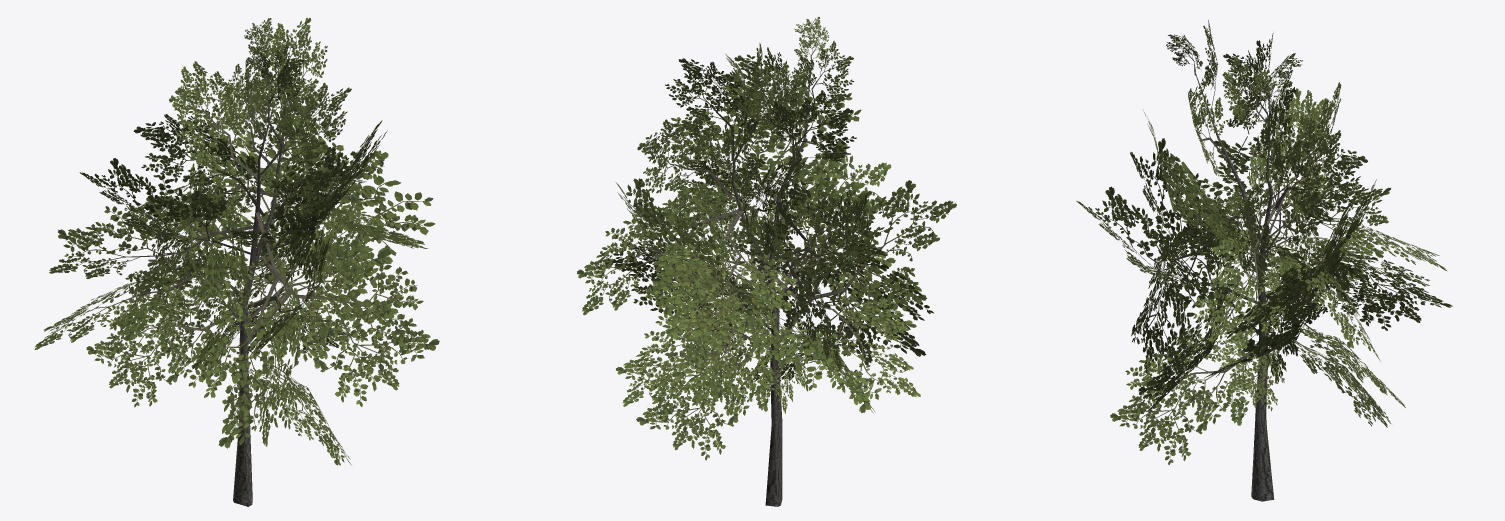
The model's file is tree.glb.
The picture shows the model from 3 angles, left to right: view 1: azimuth 30°, elevation 25°; view 2: azimuth 150°, elevation 25°; view 3: azimuth 270°, elevation 25°; orthographic projection. The views are drawn at different scales.
Visible parts, largest first — view 1: Tree-01-3; view 2: Tree-01-3; view 3: Tree-01-3.
Boxes of the visible parts, x1,y1,x2,y2 form: Tree-01-3: (34,17,439,506); Tree-01-3: (577,16,956,506); Tree-01-3: (1076,20,1452,501).
Size of the model in its own units: 4 by 4.13 by 3.41.
Materials: 3 (3 with a texture image).
